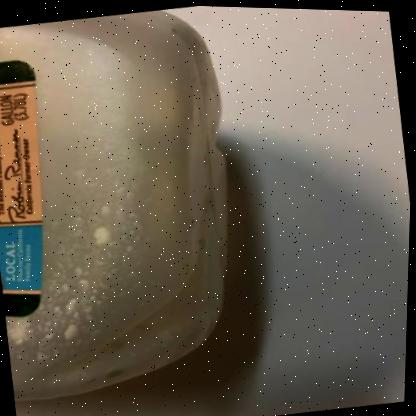Plastic: (0, 9, 227, 401)
